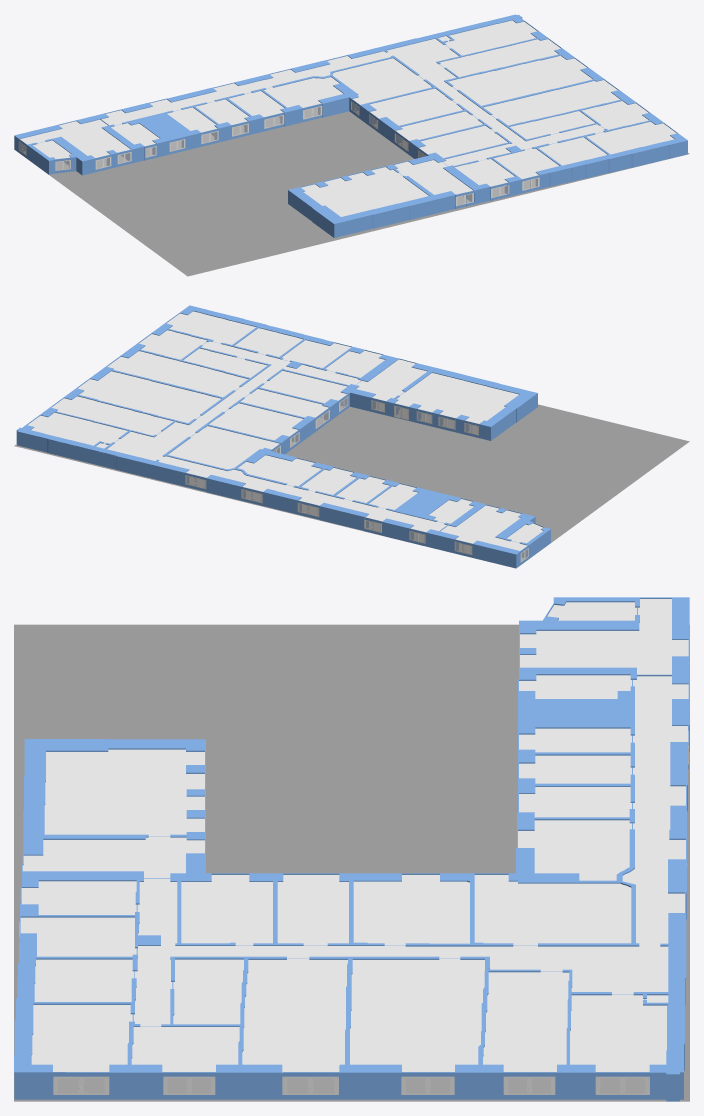
File: 3rdfloor.obj
The picture shows the model from 3 angles, top to bottom: view 1: azimuth 30°, elevation 25°; view 2: azimuth 150°, elevation 25°; view 3: azimuth 270°, elevation 25°; orthographic projection. The views are drawn at different scales.
Parts seen in each view (by area): view 1: ground_1, room_625_3607, room_596_3557, room_614_3593, room_606_3577, room_613_3591, room_601_3567, room_615_3595, room_602_3569, room_593_3551, room_616_3597, room_610_3585 (+24 smaller); view 2: ground_1, room_625_3607, room_596_3557, room_614_3593, room_606_3577, room_613_3591, room_601_3567, room_615_3595, room_602_3569, room_593_3551, room_616_3597, room_610_3585 (+27 smaller); view 3: ground_1, room_596_3557, room_625_3607, room_614_3593, room_606_3577, room_613_3591, room_601_3567, room_615_3595, room_602_3569, room_593_3551, room_616_3597, room_610_3585 (+31 smaller).
Boxes of the visible parts, x1,y1,x2,y2 form: ground_1: [15, 111, 689, 276]; room_625_3607: [122, 55, 687, 224]; room_596_3557: [101, 38, 604, 166]; room_614_3593: [448, 55, 592, 105]; room_606_3577: [301, 167, 428, 216]; room_613_3591: [483, 80, 620, 125]; room_601_3567: [332, 58, 431, 104]; room_615_3595: [440, 39, 560, 77]; room_602_3569: [370, 88, 462, 125]; room_593_3551: [20, 119, 130, 157]; room_616_3597: [444, 20, 536, 55]; room_610_3585: [586, 121, 676, 154]; ground_1: [14, 404, 689, 568]; room_625_3607: [163, 305, 537, 521]; room_596_3557: [107, 341, 446, 532]; room_614_3593: [77, 371, 221, 422]; room_606_3577: [395, 373, 518, 423]; room_613_3591: [107, 351, 247, 397]; room_601_3567: [168, 426, 279, 469]; room_615_3595: [51, 396, 173, 435]; room_602_3569: [209, 403, 303, 440]; room_593_3551: [440, 505, 527, 550]; room_616_3597: [27, 412, 127, 445]; room_610_3585: [166, 311, 255, 344]; ground_1: [14, 624, 689, 1101]; room_596_3557: [133, 676, 688, 1026]; room_625_3607: [14, 679, 639, 1073]; room_614_3593: [350, 959, 484, 1071]; room_606_3577: [44, 749, 204, 836]; room_613_3591: [242, 959, 347, 1072]; room_601_3567: [474, 875, 631, 945]; room_615_3595: [483, 971, 569, 1071]; room_602_3569: [353, 875, 469, 945]; room_593_3551: [520, 599, 688, 674]; room_616_3597: [570, 994, 666, 1071]; room_610_3585: [31, 1005, 132, 1071].
Size of the model in its own units: 9829 by 262 by 5888.
